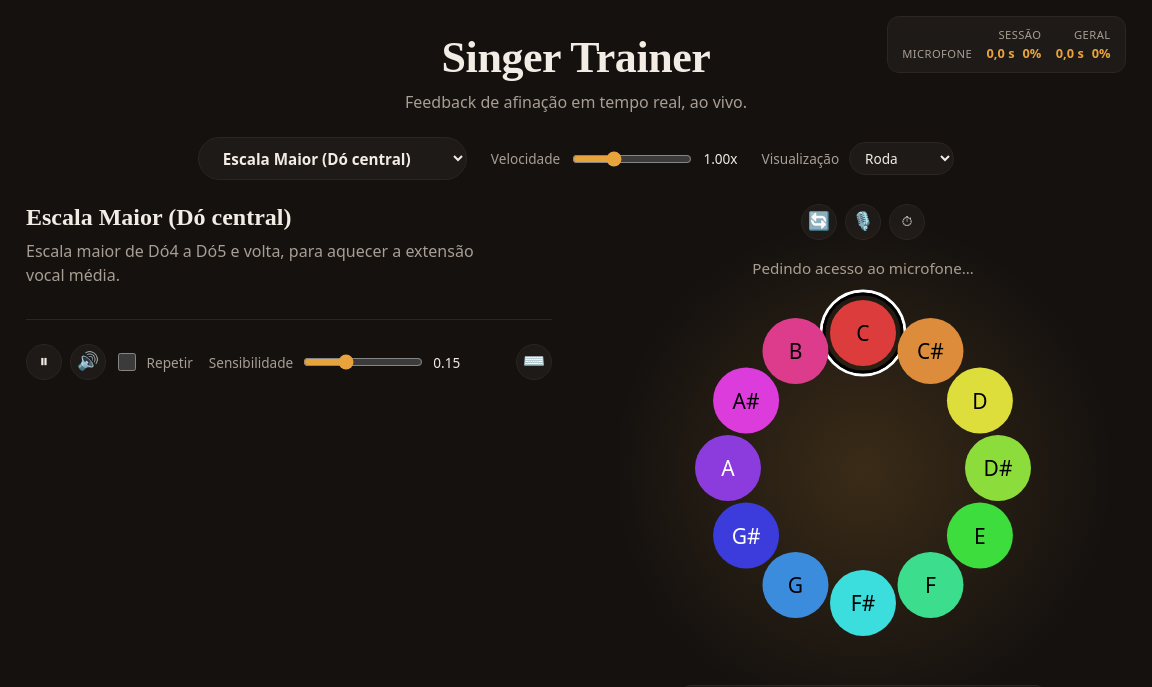
Scenario: App › switches the displayed exercise when a different option is selected
This screenshot has width=1152, height=687.
Select "Sirene" in the dropdown named "Exercício". click: (332, 159)
box: [198,137,467,180]
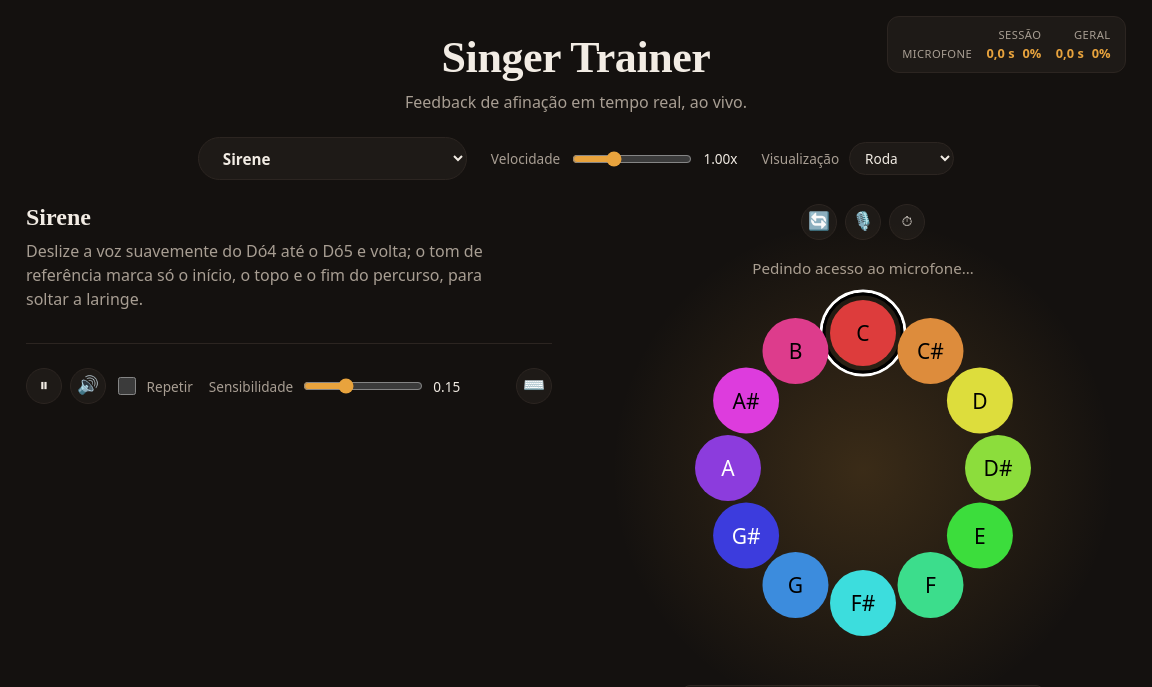
Check: the heading "Sirene" is shown, box [26,204,91,231]
